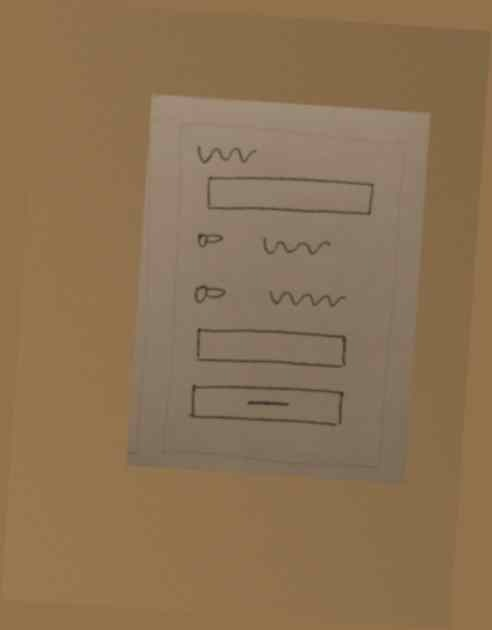button: (181, 376, 349, 437)
switch: (185, 277, 232, 310), (192, 222, 228, 254)
text: (259, 281, 348, 320), (255, 231, 336, 262), (193, 139, 260, 167)
text_input: (200, 169, 381, 225), (190, 320, 354, 376)
